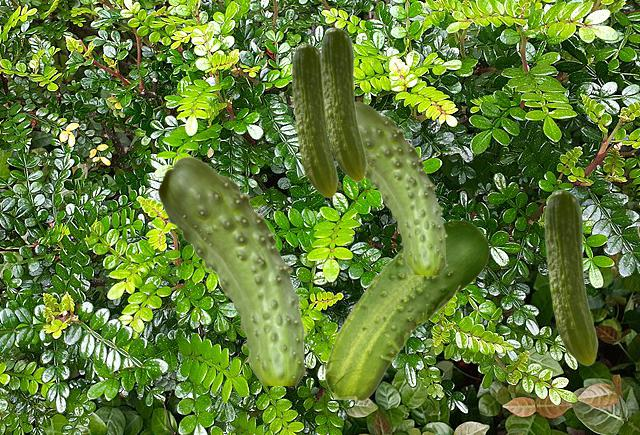cucumber: (157, 156, 307, 384), (324, 220, 488, 400), (356, 101, 447, 273), (544, 189, 597, 365), (291, 43, 337, 197), (320, 27, 366, 181)
